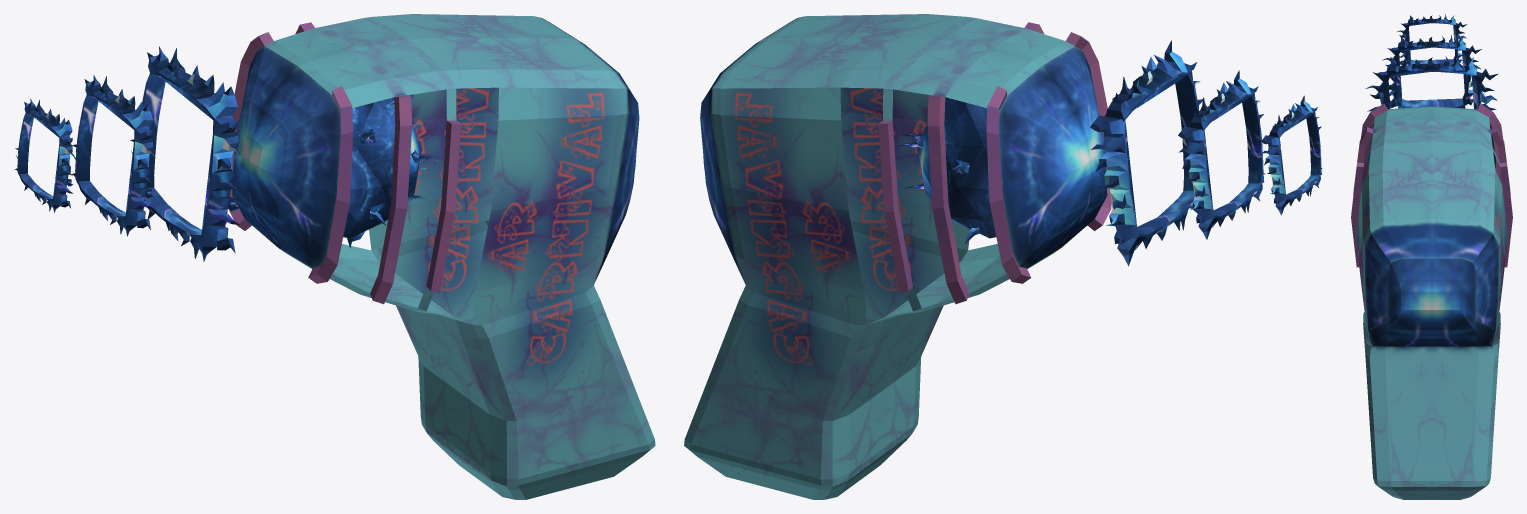
File: gun.fbx
The picture shows the model from 3 angles, left to right: view 1: azimuth 30°, elevation 25°; view 2: azimuth 150°, elevation 25°; view 3: azimuth 270°, elevation 25°; orthographic projection. The views are drawn at different scales.
Parts seen in each view (by area): view 1: Pistola, Aro grande, Aro med, Base, Aro peq; view 2: Pistola, Aro grande, Aro med, Base, Aro peq; view 3: Pistola, Aro med, Aro grande, Aro peq.
Boxes of the visible parts, left/top/right/bottom form: Pistola: left=228, top=14, right=655, bottom=499; Aro grande: left=129, top=46, right=240, bottom=261; Aro med: left=72, top=75, right=155, bottom=236; Base: left=343, top=97, right=421, bottom=238; Aro peq: left=14, top=98, right=73, bottom=212; Pistola: left=684, top=14, right=1111, bottom=499; Aro grande: left=1090, top=40, right=1204, bottom=266; Aro med: left=1178, top=70, right=1264, bottom=239; Base: left=917, top=97, right=996, bottom=238; Aro peq: left=1261, top=95, right=1322, bottom=215; Pistola: left=1351, top=103, right=1512, bottom=499; Aro med: left=1382, top=35, right=1481, bottom=108; Aro grande: left=1365, top=55, right=1498, bottom=111; Aro peq: left=1397, top=14, right=1467, bottom=65.
Size of the model in its own units: 3.64 by 2.96 by 1.34.
3 materials, 3 textured.
